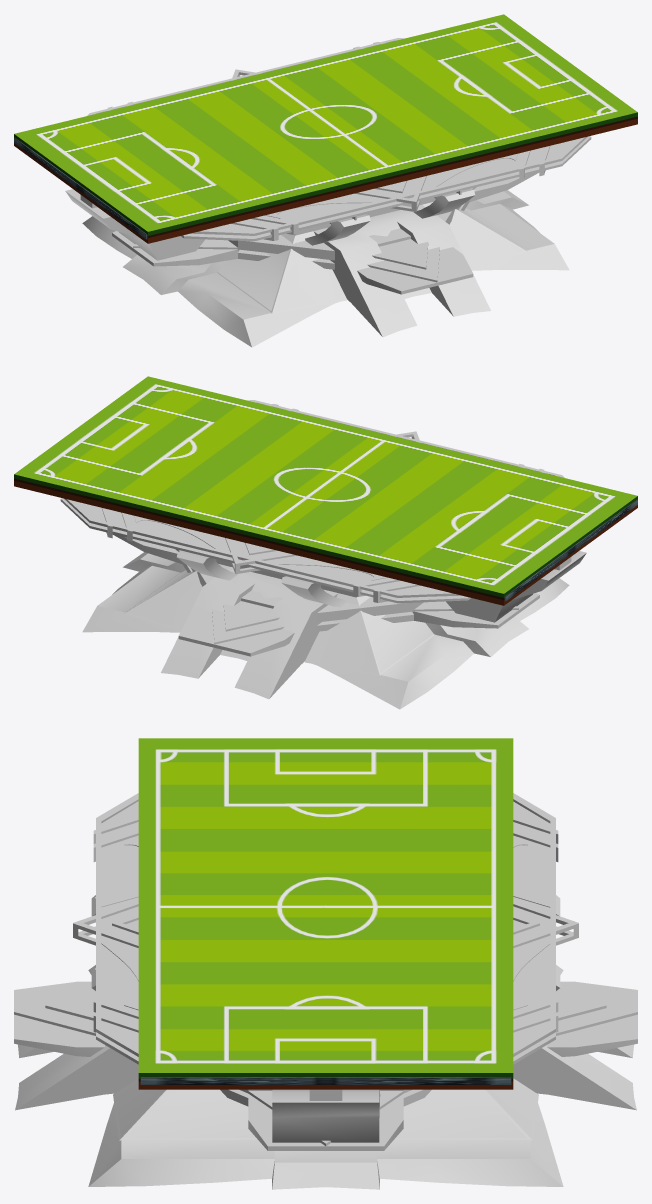
Rendered from New Area 01.fbx.
3 views of the same model, one above another, from view 1: azimuth 30°, elevation 25°; view 2: azimuth 150°, elevation 25°; view 3: azimuth 270°, elevation 25° (orthographic). The views are drawn at different scales.
Parts seen in each view (by area): view 1: Cube, Polygon, Cube_2; view 2: Cube, Polygon, Cube_2; view 3: Cube, Polygon, Cube_2.
Part boxes in pixels (box(x1,y1,x2,y2)): Cube: box(14, 14, 637, 243); Polygon: box(65, 38, 591, 347); Cube_2: box(14, 137, 147, 239); Cube: box(14, 376, 637, 605); Polygon: box(60, 400, 586, 709); Cube_2: box(504, 499, 637, 601); Cube: box(138, 738, 513, 1089); Polygon: box(14, 793, 637, 1189); Cube_2: box(140, 1077, 511, 1084).
Bounding box in the file's own units: 178 × 42.87 × 140.
